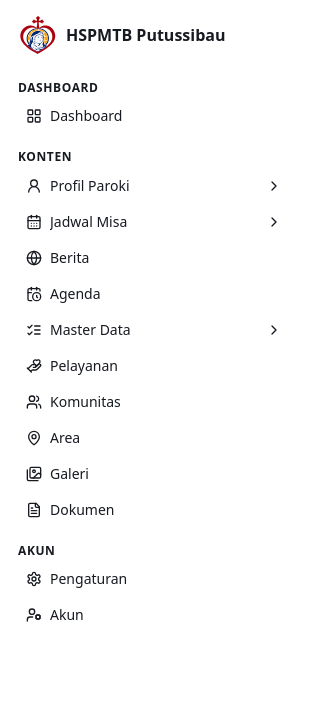
Scenario: AppSidebar › opens and closes on the chevron
Step 1. Click the button "Jadwal Misa" → point(89, 221), box [18,206,290,238]
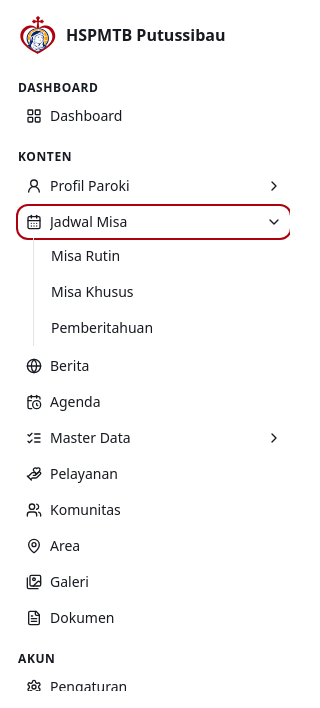
Result: the link "Misa Rutin" is shown at [51,246,120,265]
Step 2. Click the button "Jadwal Misa" → point(89, 221), box [18,206,290,238]
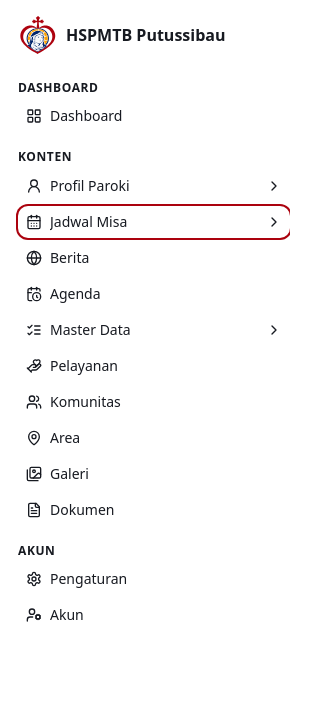
Result: the link "Misa Rutin" is gone
